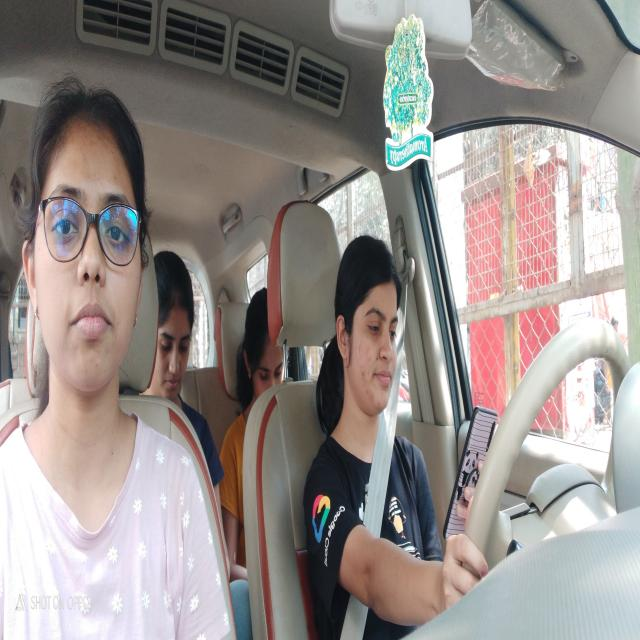mobile: (444, 384, 496, 562)
person: (16, 62, 150, 422), (333, 225, 409, 440), (154, 234, 198, 419), (240, 278, 290, 426)
